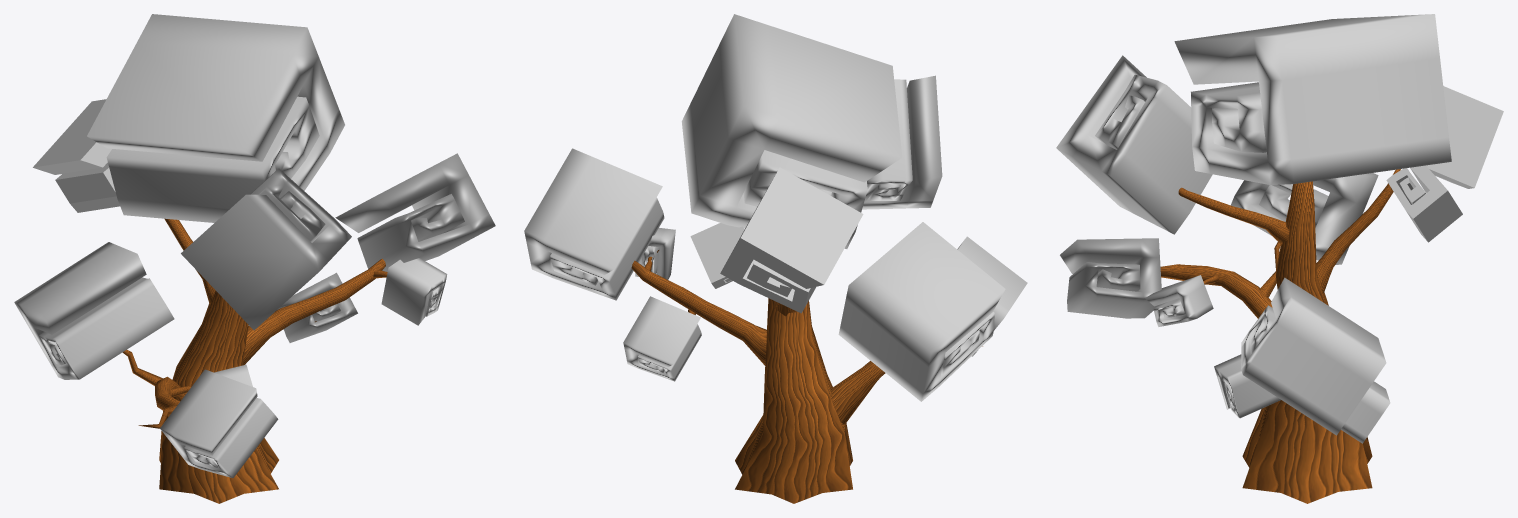
Rendered from tree__8.fbx.
3 views of the same model, side by side, from view 1: azimuth 30°, elevation 25°; view 2: azimuth 150°, elevation 25°; view 3: azimuth 270°, elevation 25° (orthographic). The views are drawn at different scales.
Visible parts, largest first — view 1: polySurface25, polySurface24; view 2: polySurface25, polySurface24; view 3: polySurface25, polySurface24.
Part boxes in pixels (bbox=[...]): polySurface25: bbox=[14, 14, 495, 477]; polySurface24: bbox=[122, 218, 387, 503]; polySurface25: bbox=[524, 14, 1027, 401]; polySurface24: bbox=[631, 250, 982, 503]; polySurface25: bbox=[1056, 14, 1503, 443]; polySurface24: bbox=[1160, 169, 1400, 503].
Bounding box in the file's own units: 23.02 × 21.58 × 18.43.
